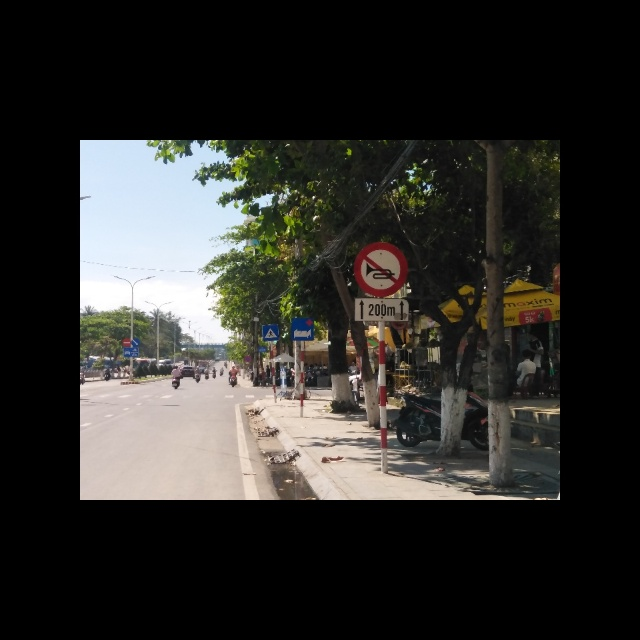Bệnh viện: (288, 317, 315, 342)
Cấm bấm còi: (354, 241, 409, 299)
Đường dành cho người đi bộ: (260, 325, 279, 342)
